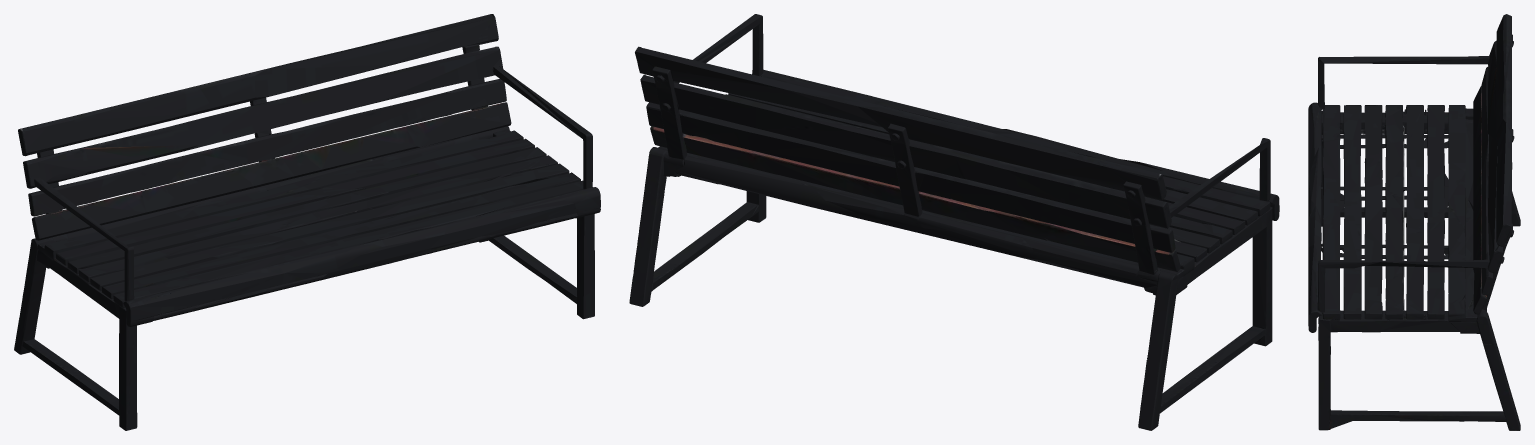
Rendered from bench.glb.
The picture shows the model from 3 angles, left to right: view 1: azimuth 30°, elevation 25°; view 2: azimuth 150°, elevation 25°; view 3: azimuth 270°, elevation 25°; orthographic projection. The views are drawn at different scales.
Size of the model in its own units: 1.9 by 0.8735 by 0.811.
1 material, 1 textured.
